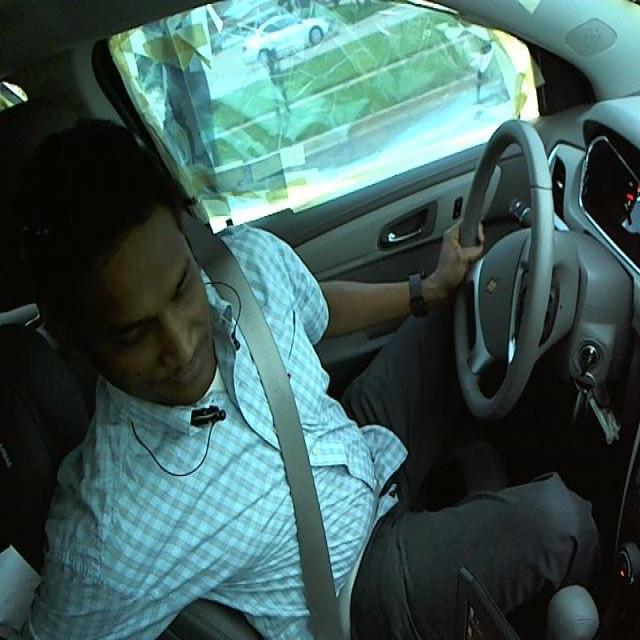seatbelt: (206, 282, 374, 630)
